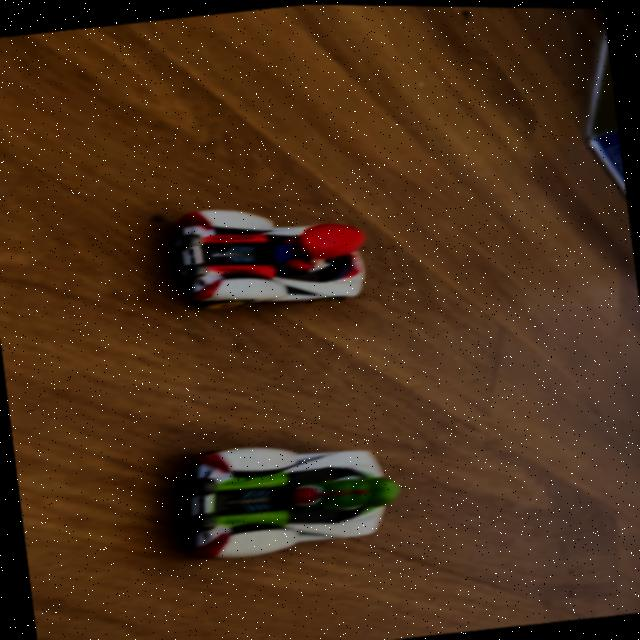mario: (152, 183, 396, 330)
yoshi: (159, 419, 428, 578)
